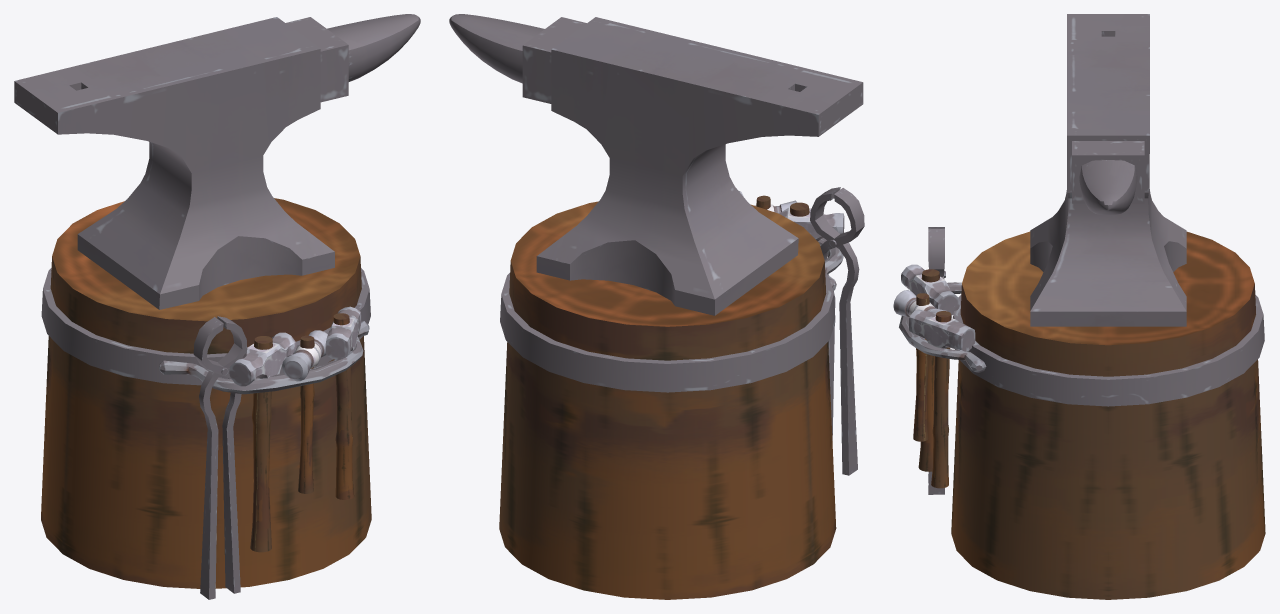
The model's file is anvil-log.glb.
The picture shows the model from 3 angles, left to right: view 1: azimuth 30°, elevation 25°; view 2: azimuth 150°, elevation 25°; view 3: azimuth 270°, elevation 25°; orthographic projection. The views are drawn at different scales.
Visible parts, largest first — view 1: Anvil_Log; view 2: Anvil_Log; view 3: Anvil_Log.
Boxes of the visible parts, box(x1,y1,x2,y2) form: Anvil_Log: box(14, 14, 420, 599); Anvil_Log: box(449, 14, 864, 599); Anvil_Log: box(893, 14, 1265, 599).
Size of the model in its own units: 0.9293 by 1.07 by 0.8214.
Materials: 3 (3 with a texture image).
